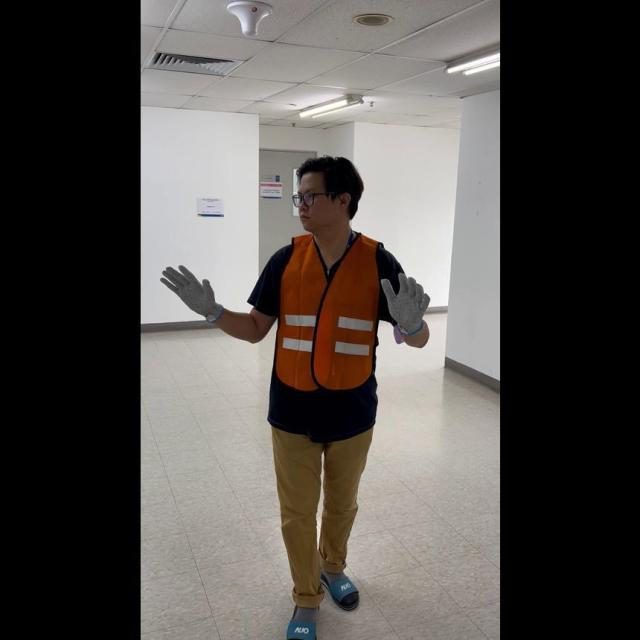gloved_hand: (159, 260, 224, 321), (379, 267, 429, 334)
